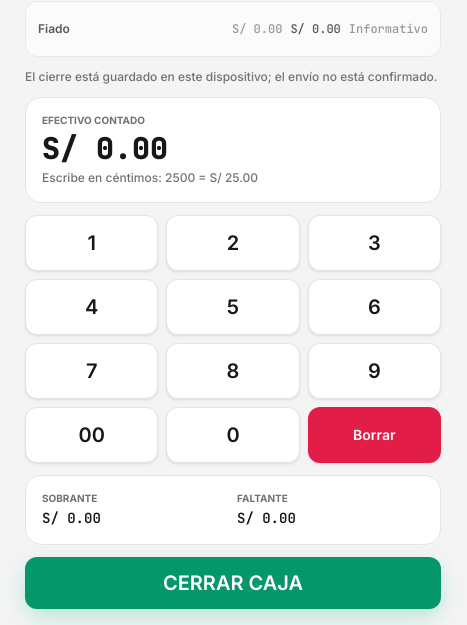
Scenario: CashCloseScreen › keeps the local close and says it was not confirmed when the network is down
The width and height of the screenshot is (467, 625).
(page scrolled)
Click the button with test id "cash-close-submit" at (233, 583), box [25,557,441,609]
(page scrolled)
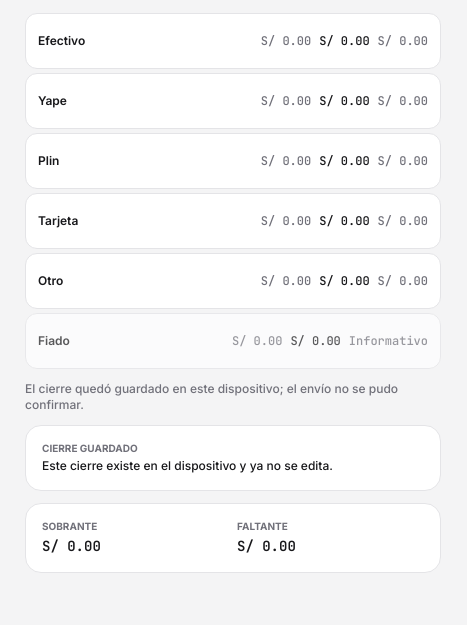
Check: the message with test id "cash-close-delivery" shows "no se pudo confirmar", box [25,381,398,412]
Check: the element with test id "cash-close-readonly" is shown, box [25,425,441,491]
